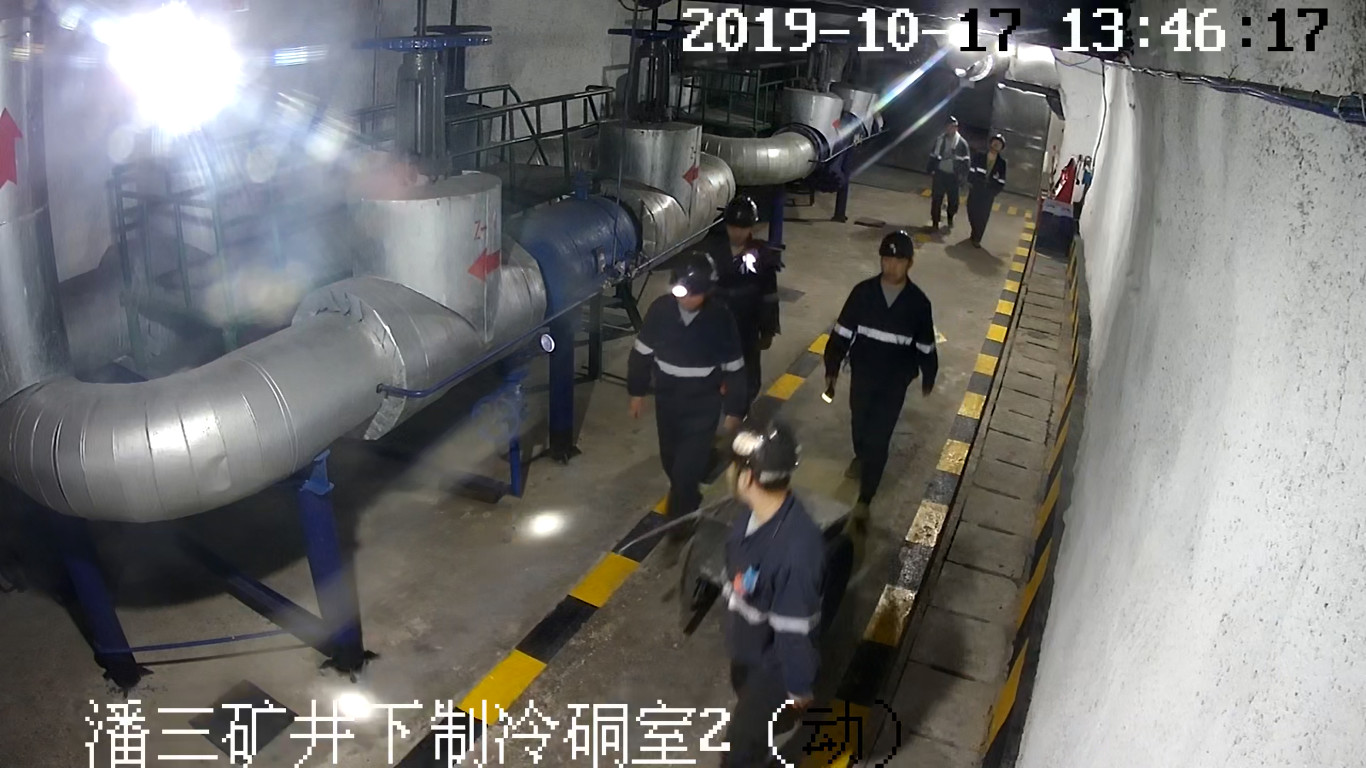helmet: (723, 418, 802, 471), (669, 251, 717, 298), (722, 195, 759, 226), (878, 229, 913, 258), (989, 133, 1005, 150), (943, 115, 958, 126)
